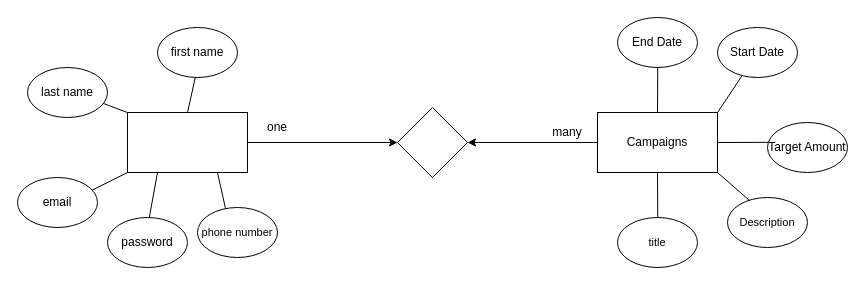
The diagram is 865 pixels wide and 285 high, and some of its shapes have lost their labels. The centre of each missing label's shape, as x and y in pixels:
"has" goes at (x=432, y=142).
"Users" goes at (x=187, y=142).
